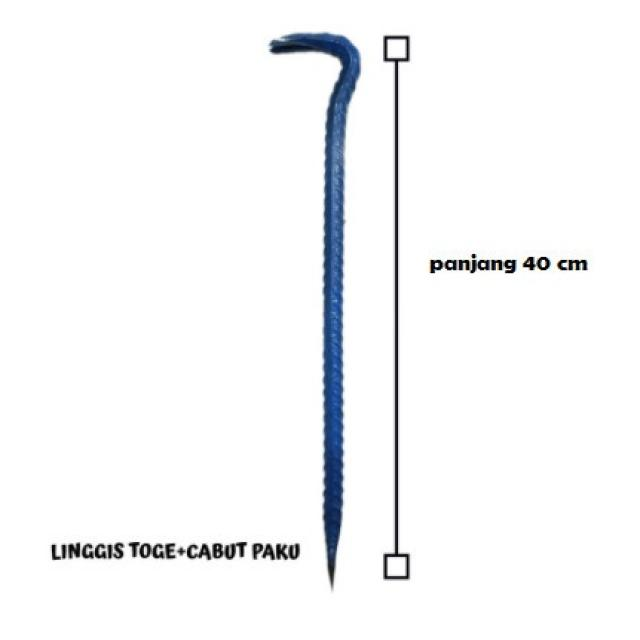Linggis: (270, 26, 363, 588)
